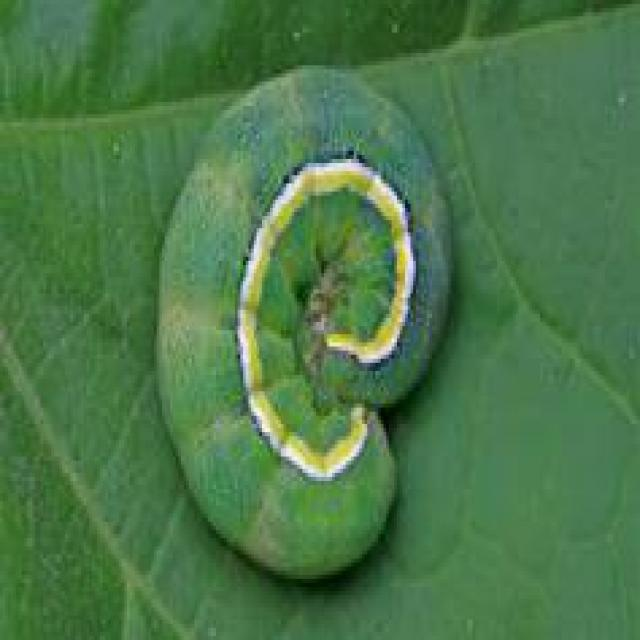BeetArmyWorm-Larva-: (136, 58, 482, 596)
